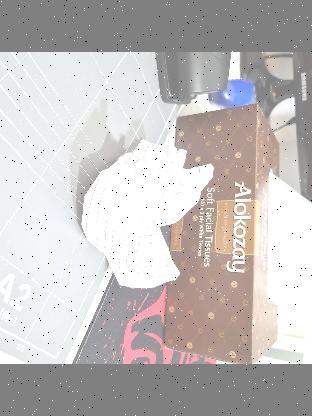Others: (76, 142, 208, 286)
